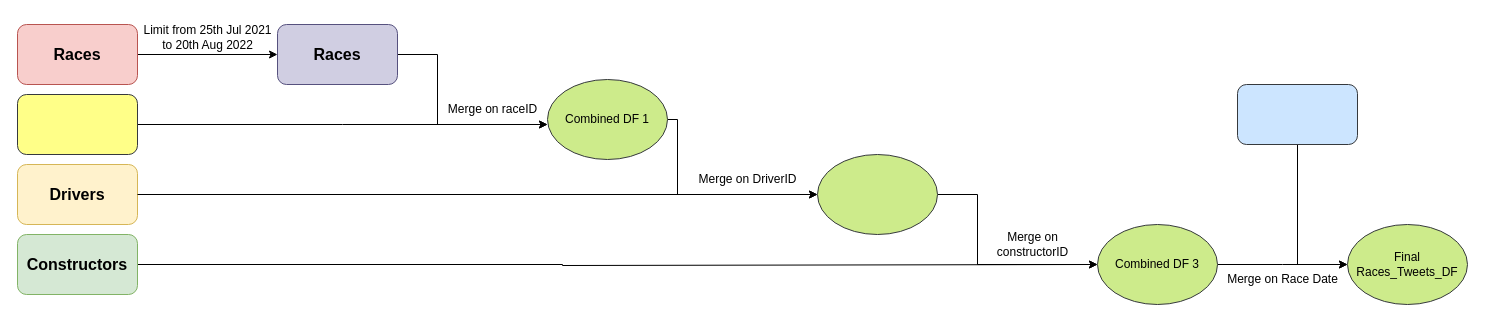
The diagram is 1485 pixels wide and 322 high, and some of its shapes have lost their labels. The shapes that lost their labels are listed below. From the top down, each one's centre as x and y in pixels, then its label:
the point at 77,124: Results
the point at 1297,114: Tweets
the point at 877,194: Combined DF 2
